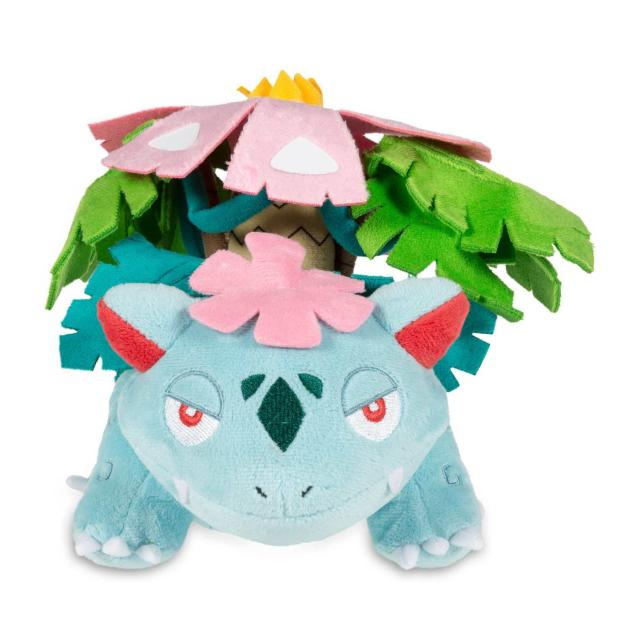Venusaur: (60, 78, 489, 573)
